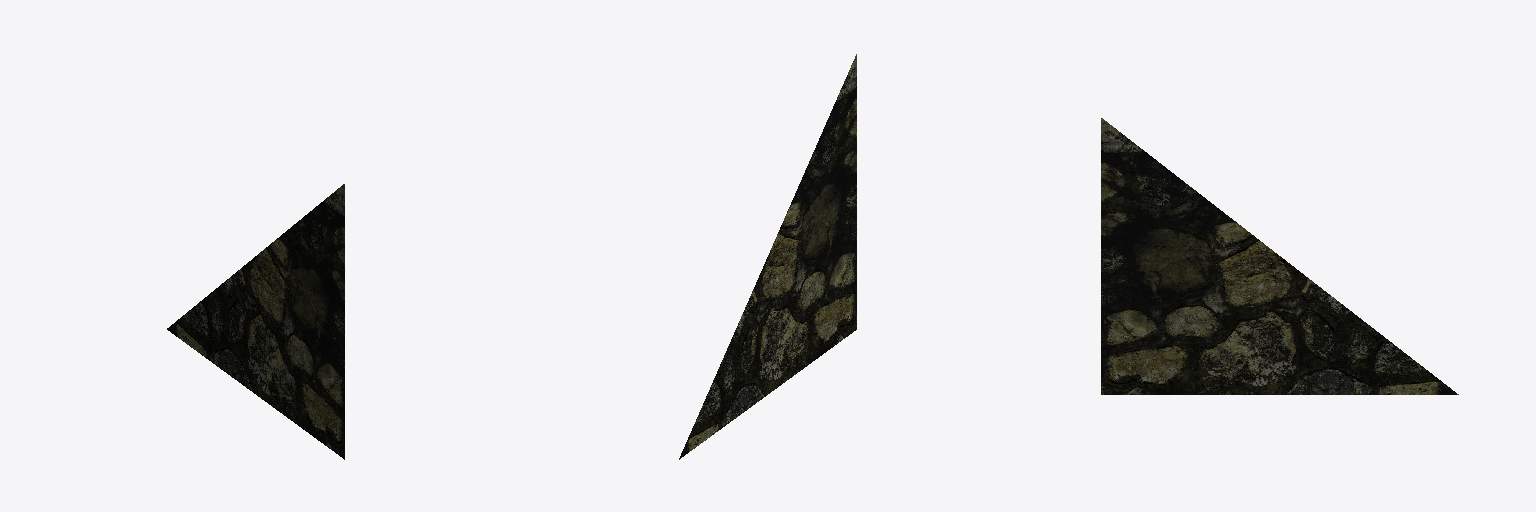
The picture shows the model from 3 angles: view 1: azimuth 30°, elevation 25°; view 2: azimuth 150°, elevation 25°; view 3: azimuth 270°, elevation 25°; orthographic projection.
Parts seen in each view (by area): view 1: mesh0; view 2: mesh0; view 3: mesh0.
Boxes of the visible parts, <box> form: mesh0: <box>167,184,344,459</box>; mesh0: <box>679,54,856,459</box>; mesh0: <box>1101,118,1458,394</box>.
Bounding box in the file's own units: 0 × 0.4969 × 0.5808.
Materials: 1 (1 with a texture image).